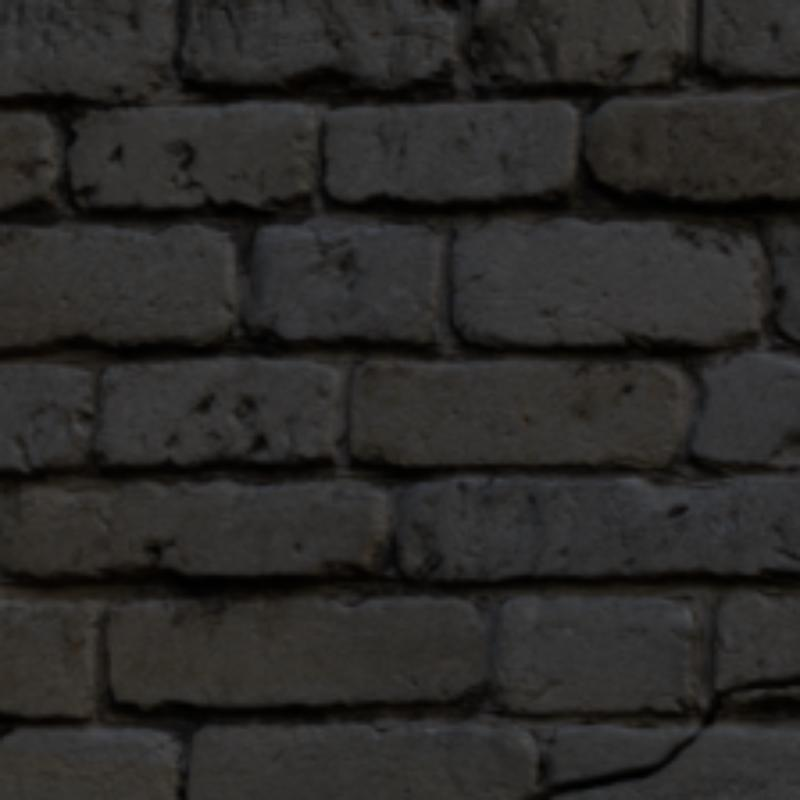pothole: (525, 736, 693, 796), (700, 675, 796, 725)
